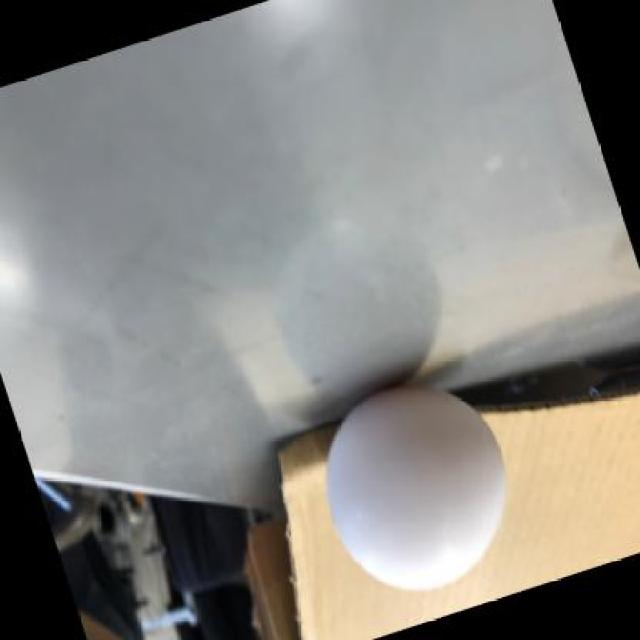egg: (324, 384, 511, 596)
